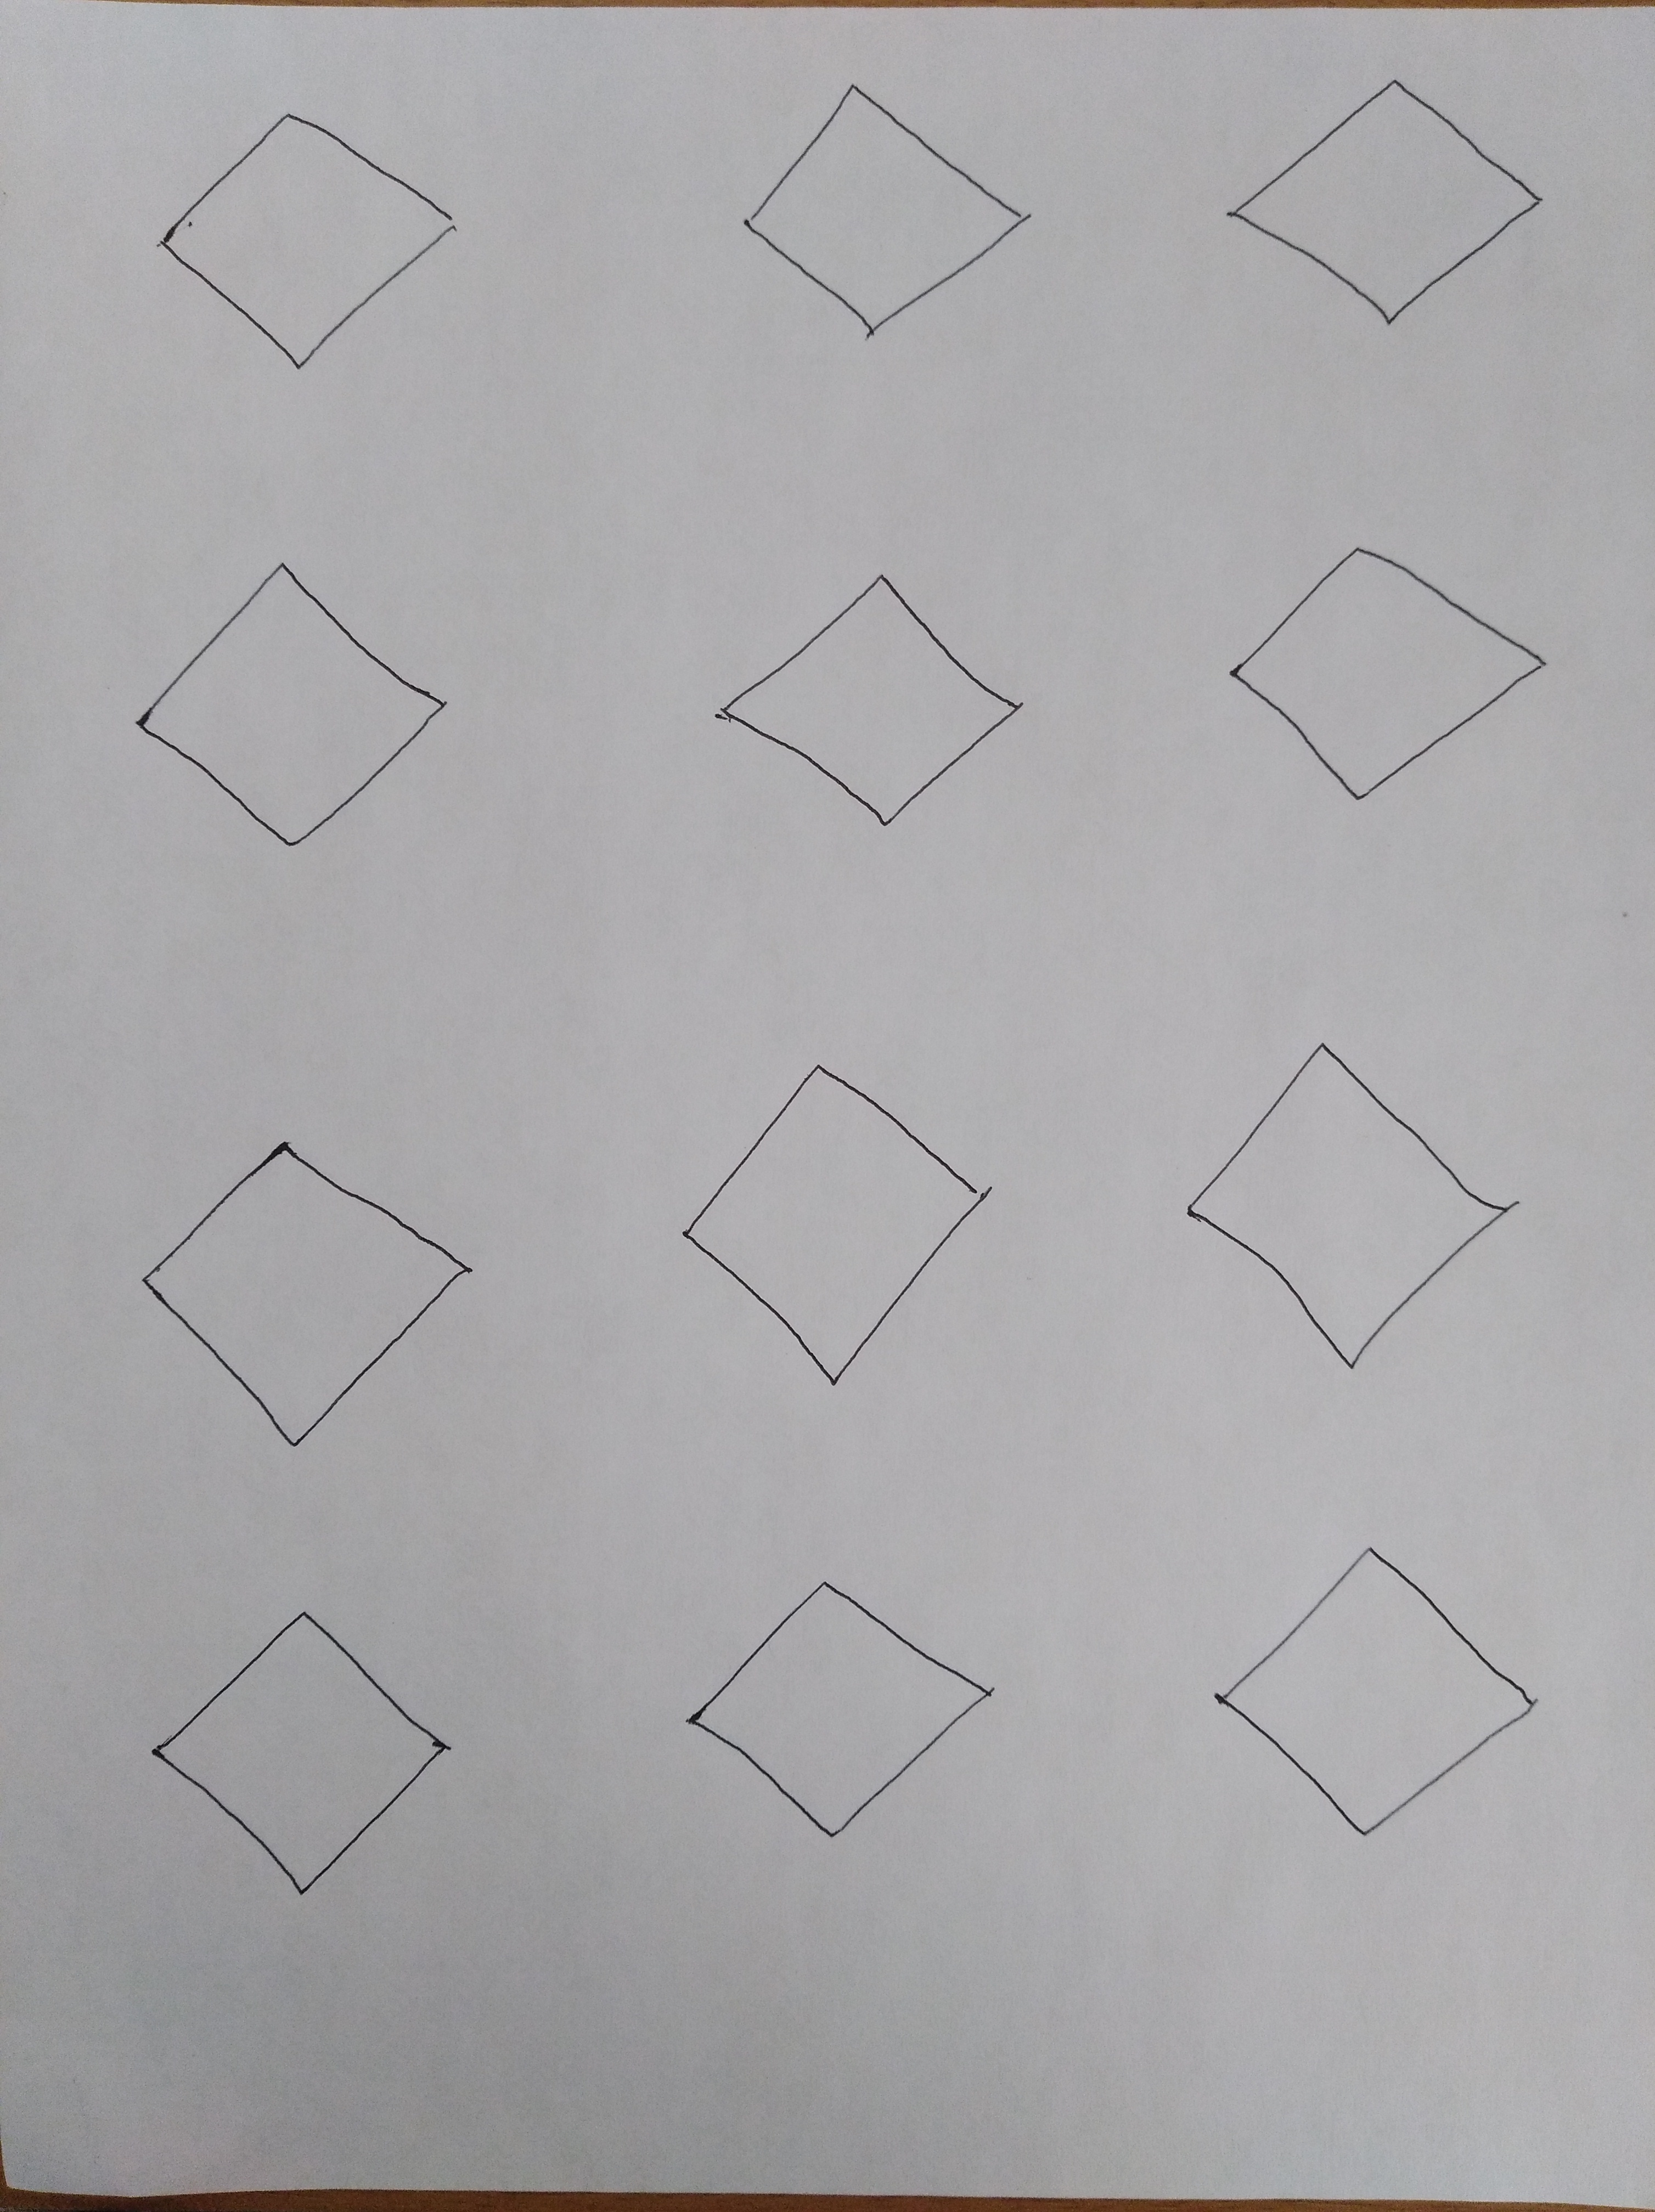decision: (1151, 1017, 1547, 1407), (82, 1112, 511, 1472), (647, 1018, 1015, 1425), (90, 520, 487, 871), (1170, 1515, 1575, 1856), (671, 520, 1053, 869), (1187, 504, 1572, 851), (122, 1583, 490, 1917), (1194, 42, 1577, 358), (648, 1548, 1027, 1856), (110, 82, 483, 393), (708, 61, 1060, 365)
